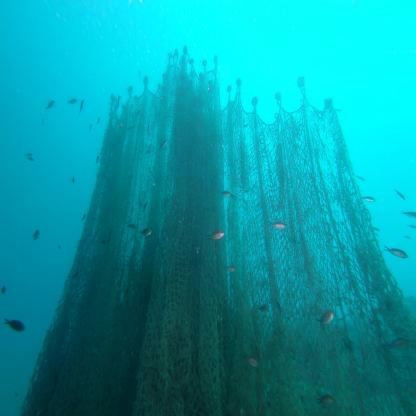net: (36, 106, 407, 416)
